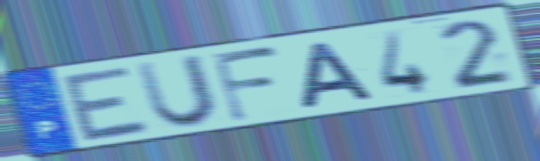2: (437, 18, 519, 92)
4: (376, 27, 436, 97)
A: (296, 39, 380, 111)
E: (58, 62, 155, 145)
F: (208, 44, 283, 125)
U: (132, 52, 222, 131)
